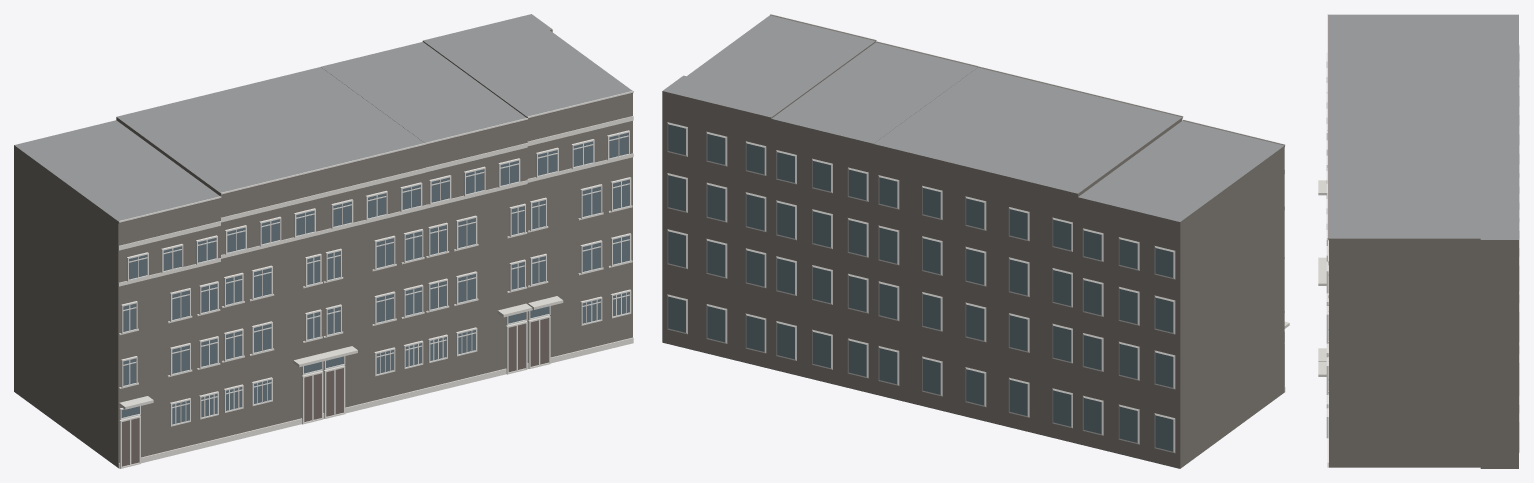
The model's file is chunk-face-theron-9-37-r2.glb.
3 renders of one model, left to right at view 1: azimuth 30°, elevation 25°; view 2: azimuth 150°, elevation 25°; view 3: azimuth 270°, elevation 25°, orthographic. The views are drawn at different scales.
Parts seen in each view (by area): view 1: face-theron-9-37-r2; view 2: face-theron-9-37-r2; view 3: face-theron-9-37-r2.
Boxes of the visible parts, bbox=[...] form: face-theron-9-37-r2: bbox=[14, 14, 633, 468]; face-theron-9-37-r2: bbox=[662, 14, 1289, 468]; face-theron-9-37-r2: bbox=[1318, 14, 1519, 468].
Size of the model in its own units: 30.5 by 14.2 by 11.29.
